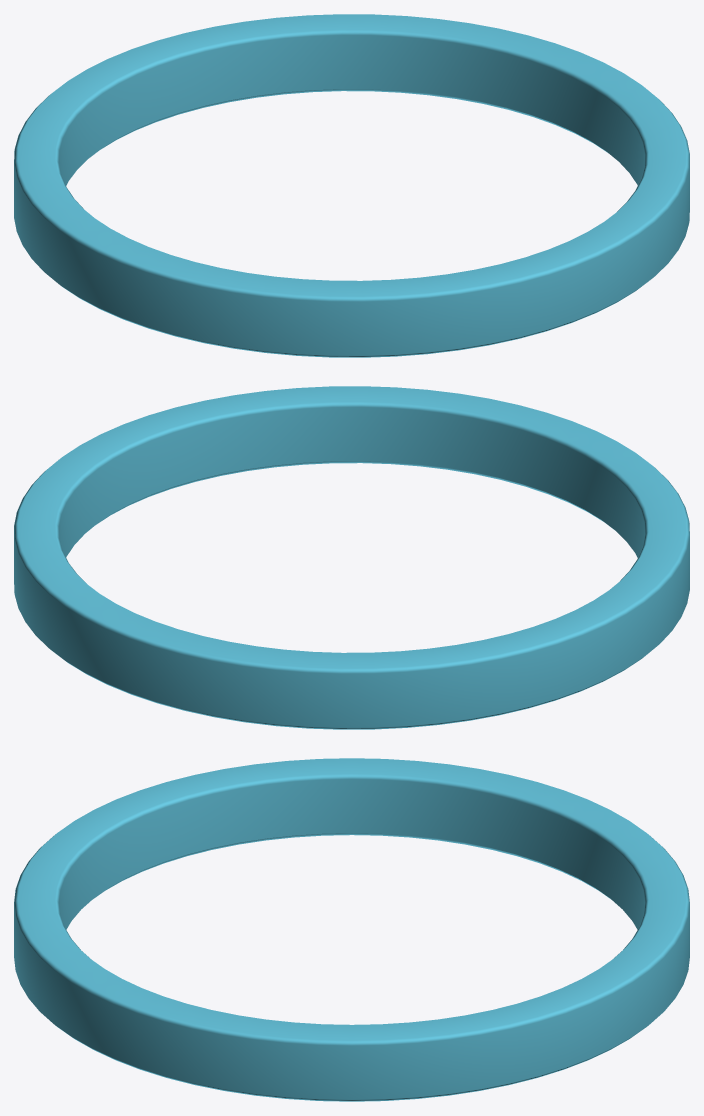
3 views of the same model, one above another, from view 1: azimuth 30°, elevation 25°; view 2: azimuth 150°, elevation 25°; view 3: azimuth 270°, elevation 25° (orthographic).
Parts seen in each view (by area): view 1: seal_body; view 2: seal_body; view 3: seal_body.
Part boxes in pixels (bbox=[...]): seal_body: bbox=[14, 14, 689, 357]; seal_body: bbox=[14, 386, 689, 729]; seal_body: bbox=[14, 758, 689, 1101].
Bounding box in the file's own units: 0.1905 × 0.0191 × 0.1905.
